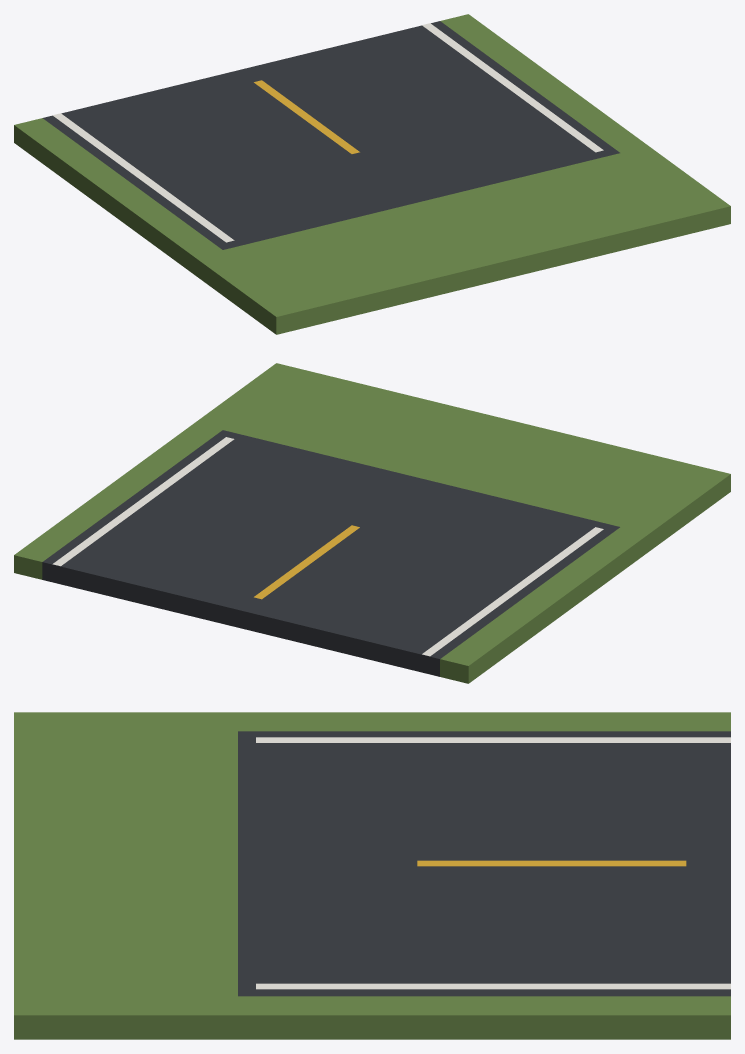
The model's file is Road_2Lane_NoSidewalk_EndCap_DeadEnd.glb.
3 renders of one model, top to bottom at view 1: azimuth 30°, elevation 25°; view 2: azimuth 150°, elevation 25°; view 3: azimuth 270°, elevation 25°, orthographic. The views are drawn at different scales.
Visible parts, largest first — view 1: Road_2Lane_NoSidewalk_EndCap_DeadEnd_Asphalt, Road_2Lane_NoSidewalk_EndCap_DeadEnd_Grass-edge, Road_2Lane_NoSidewalk_EndCap_DeadEnd_PaintWhite, Road_2Lane_NoSidewalk_EndCap_DeadEnd_PaintYellow; view 2: Road_2Lane_NoSidewalk_EndCap_DeadEnd_Asphalt, Road_2Lane_NoSidewalk_EndCap_DeadEnd_Grass-edge, Road_2Lane_NoSidewalk_EndCap_DeadEnd_PaintWhite, Road_2Lane_NoSidewalk_EndCap_DeadEnd_PaintYellow; view 3: Road_2Lane_NoSidewalk_EndCap_DeadEnd_Asphalt, Road_2Lane_NoSidewalk_EndCap_DeadEnd_Grass-edge, Road_2Lane_NoSidewalk_EndCap_DeadEnd_PaintWhite, Road_2Lane_NoSidewalk_EndCap_DeadEnd_PaintYellow.
Boxes of the visible parts, x1=… form: Road_2Lane_NoSidewalk_EndCap_DeadEnd_Asphalt: x1=43, y1=21, x2=619, y2=249; Road_2Lane_NoSidewalk_EndCap_DeadEnd_Grass-edge: x1=14, y1=14, x2=730, y2=334; Road_2Lane_NoSidewalk_EndCap_DeadEnd_PaintWhite: x1=53, y1=23, x2=603, y2=242; Road_2Lane_NoSidewalk_EndCap_DeadEnd_PaintYellow: x1=254, y1=80, x2=359, y2=153; Road_2Lane_NoSidewalk_EndCap_DeadEnd_Asphalt: x1=42, y1=430, x2=619, y2=676; Road_2Lane_NoSidewalk_EndCap_DeadEnd_Grass-edge: x1=14, y1=363, x2=730, y2=683; Road_2Lane_NoSidewalk_EndCap_DeadEnd_PaintWhite: x1=52, y1=437, x2=603, y2=656; Road_2Lane_NoSidewalk_EndCap_DeadEnd_PaintYellow: x1=254, y1=525, x2=359, y2=599; Road_2Lane_NoSidewalk_EndCap_DeadEnd_Asphalt: x1=238, y1=731, x2=730, y2=996; Road_2Lane_NoSidewalk_EndCap_DeadEnd_Grass-edge: x1=14, y1=712, x2=730, y2=1039; Road_2Lane_NoSidewalk_EndCap_DeadEnd_PaintWhite: x1=256, y1=737, x2=730, y2=989; Road_2Lane_NoSidewalk_EndCap_DeadEnd_PaintYellow: x1=417, y1=860, x2=686, y2=866.
Bounding box in the file's own units: 8 × 0.305 × 8.
